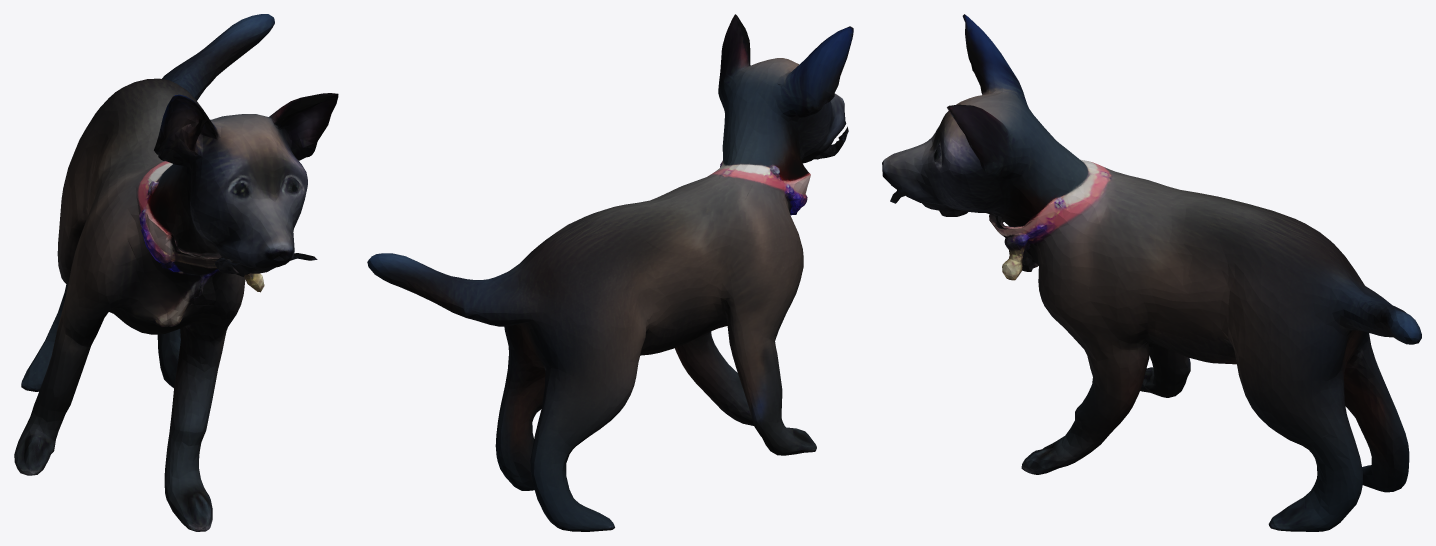
File: DOG-v2.glb
The picture shows the model from 3 angles, left to right: view 1: azimuth 30°, elevation 25°; view 2: azimuth 150°, elevation 25°; view 3: azimuth 270°, elevation 25°; orthographic projection. The views are drawn at different scales.
Visible parts, largest first — view 1: world; view 2: world; view 3: world.
Boxes of the visible parts, x1,y1,x2,y2 form: world: (14,14,338,531); world: (367,14,853,531); world: (882,14,1421,531).
Size of the model in its own units: 0.7204 by 0.8102 by 0.9266.
Materials: 1 (1 with a texture image).
